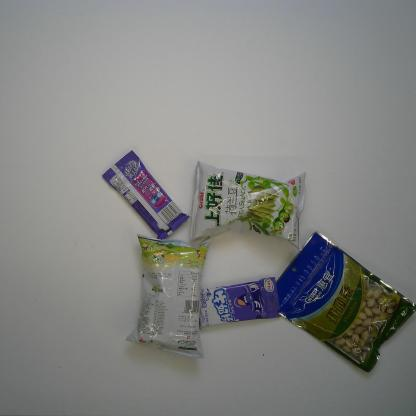Candy: (100, 149, 190, 242), (194, 276, 282, 330)
Dried Fruit: (264, 229, 416, 373)
Puffed Food: (124, 232, 212, 359), (188, 159, 309, 251)
